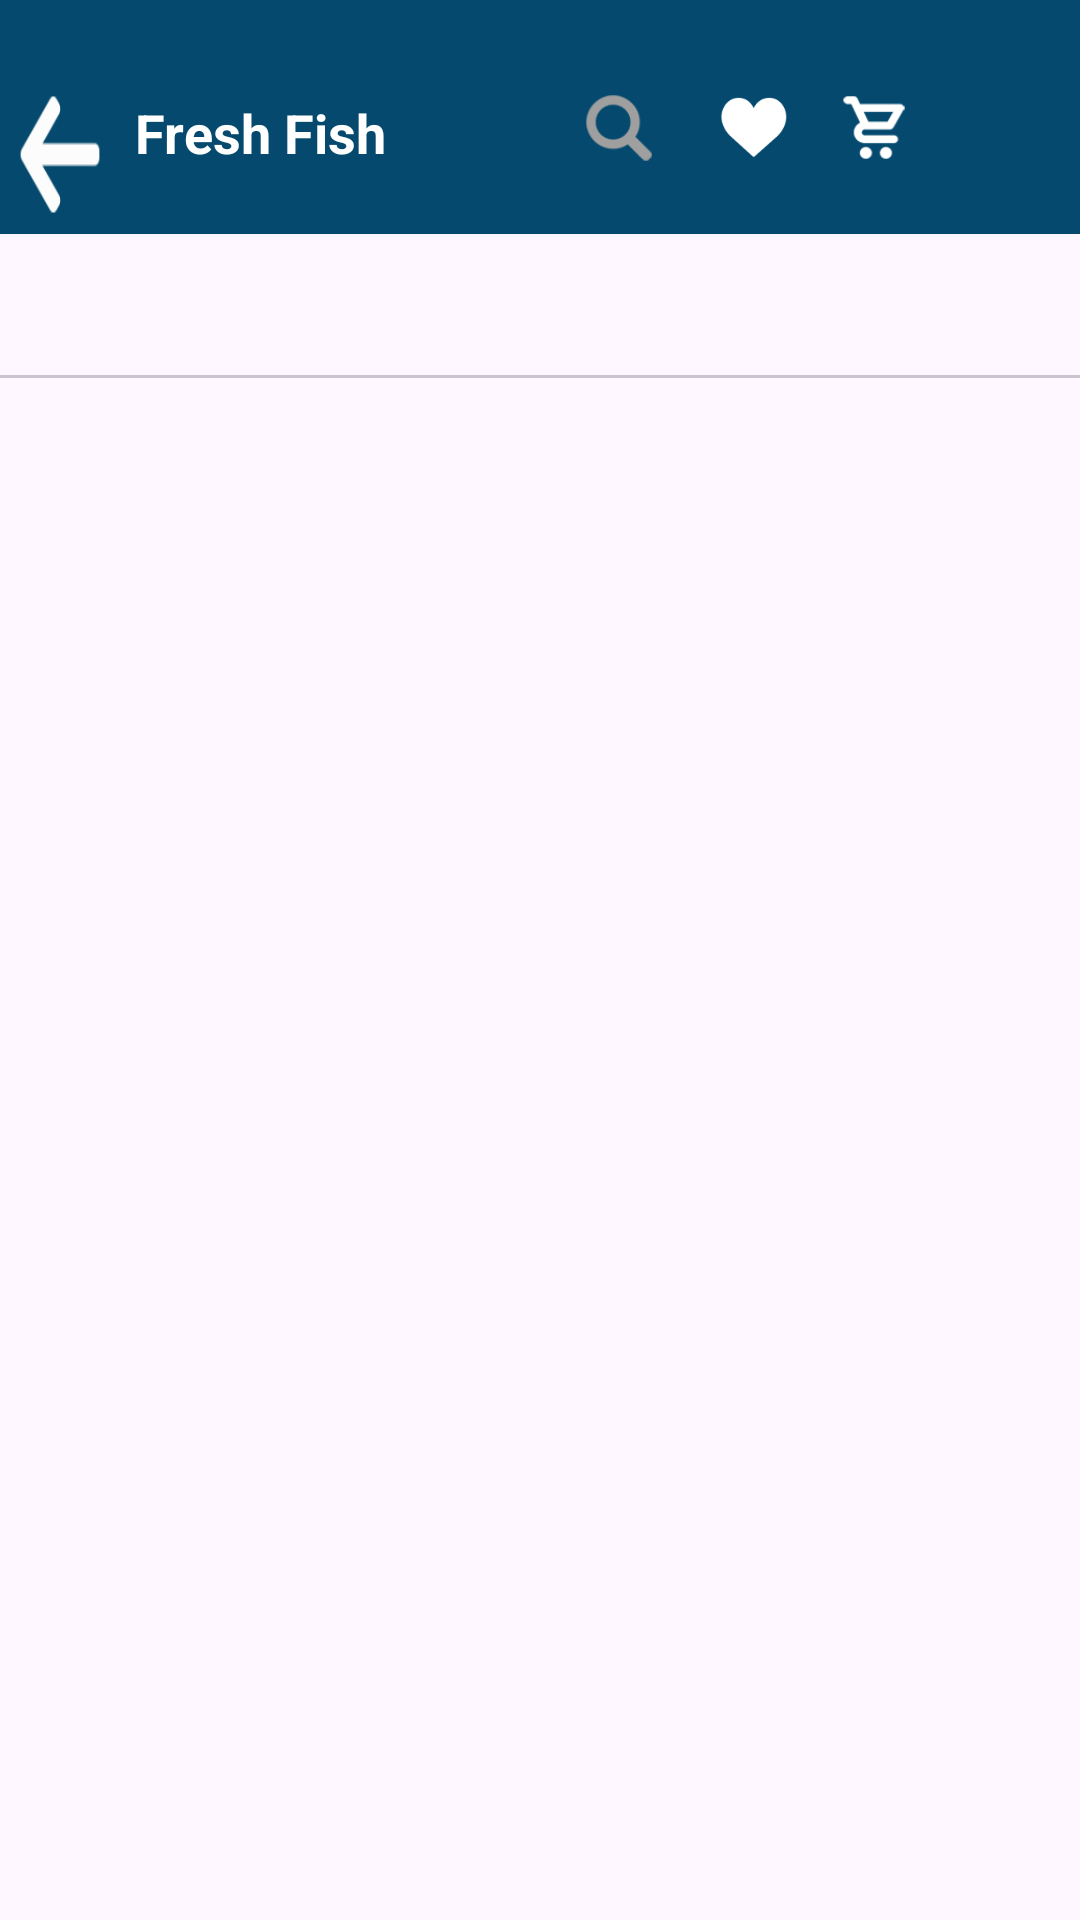

Icon click points for this 1080x1920 phone screenshot, format (x,y):
arrow left: (60,154)
cart: (874,127)
favourite: (754,127)
search: (619,128)
